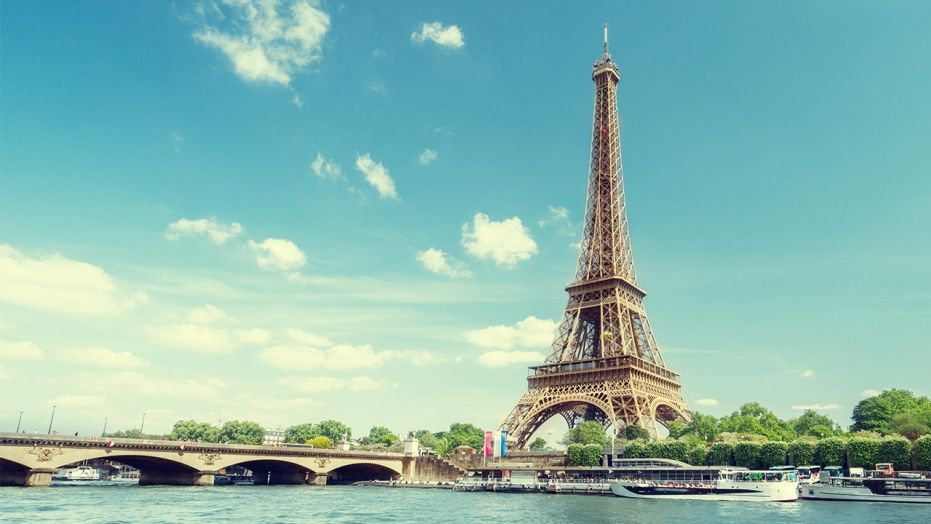tower: (475, 11, 715, 474)
